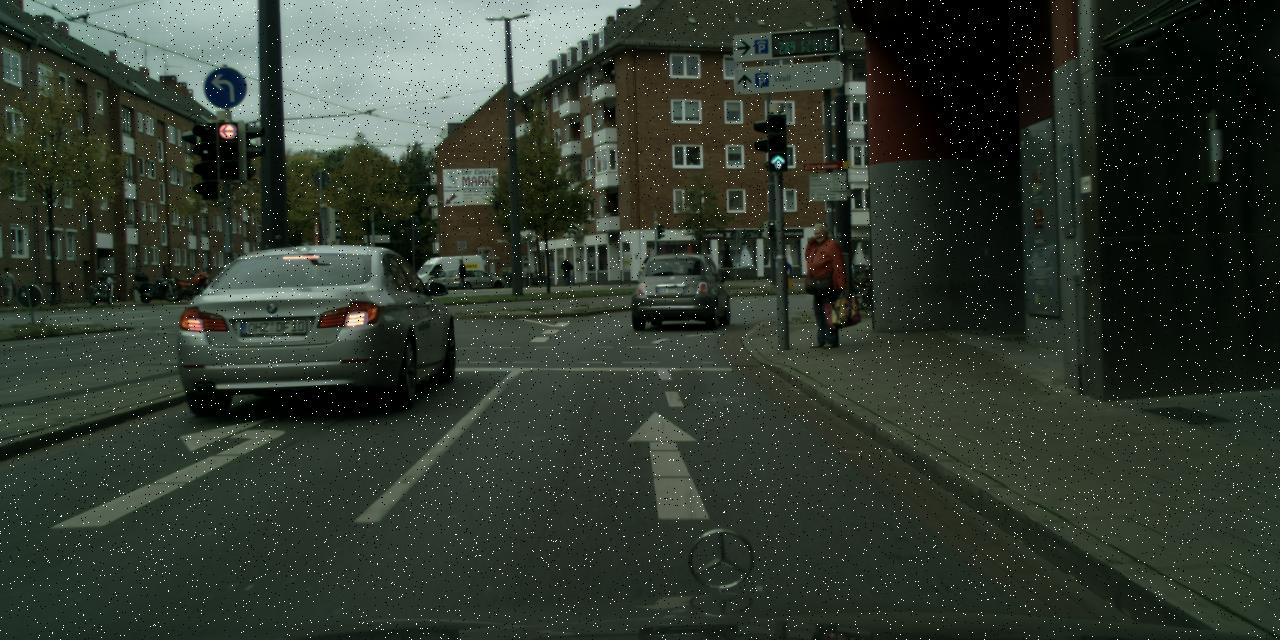ped: (794, 222, 846, 348), (0, 266, 14, 306), (455, 258, 467, 289), (642, 253, 654, 281), (561, 258, 571, 284)
